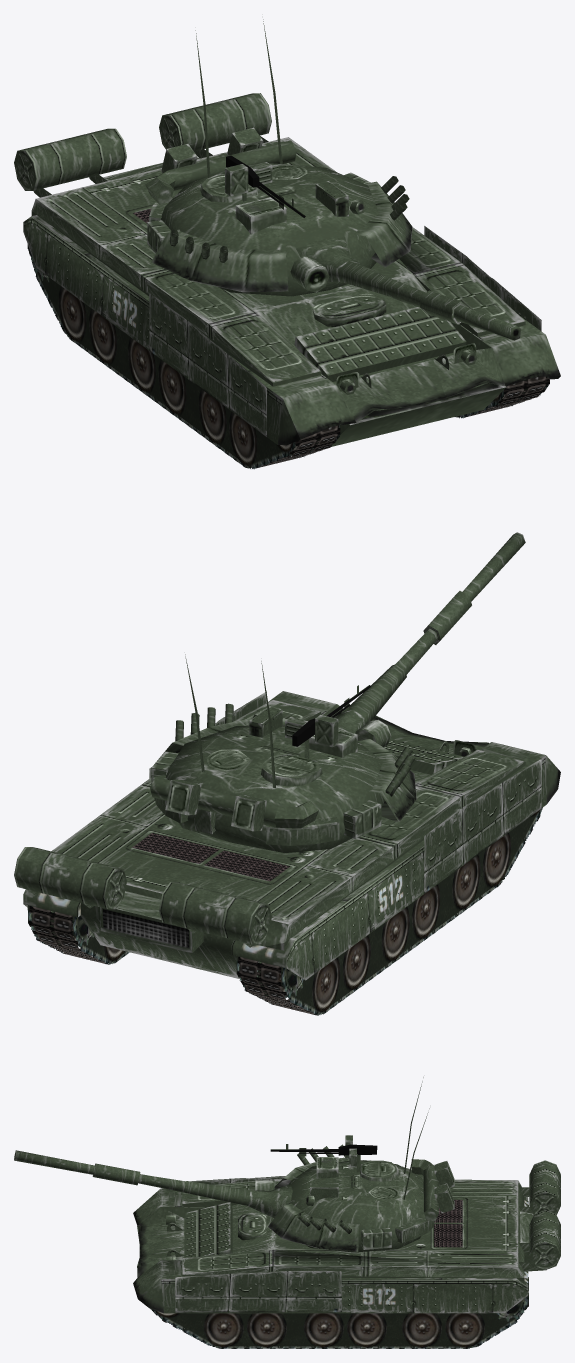
3 renders of one model, top to bottom at view 1: azimuth 30°, elevation 25°; view 2: azimuth 150°, elevation 25°; view 3: azimuth 270°, elevation 25°, orthographic. The views are drawn at different scales.
Parts seen in each view (by area): view 1: Box01, tower, wheels, cannon, aerials; view 2: Box01, tower, wheels, cannon; view 3: Box01, tower, wheels, cannon.
Part boxes in pixels (<box>): Box01: <box>14,93,560,446</box>; tower: <box>145,127,412,296</box>; wheels: <box>27,244,549,469</box>; cannon: <box>296,236,521,340</box>; aerials: <box>195,19,282,178</box>; Box01: <box>14,691,560,980</box>; tower: <box>150,685,416,852</box>; wheels: <box>27,807,542,1015</box>; cannon: <box>334,532,525,733</box>; Box01: <box>133,1160,560,1313</box>; tower: <box>255,1135,454,1252</box>; wheels: <box>150,1205,528,1348</box>; cannon: <box>14,1150,292,1217</box>.
Size of the model in its own units: 68.72 by 74.48 by 167.
Materials: 1 (1 with a texture image).
